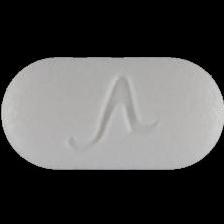61786-821: (0, 0, 224, 224)
